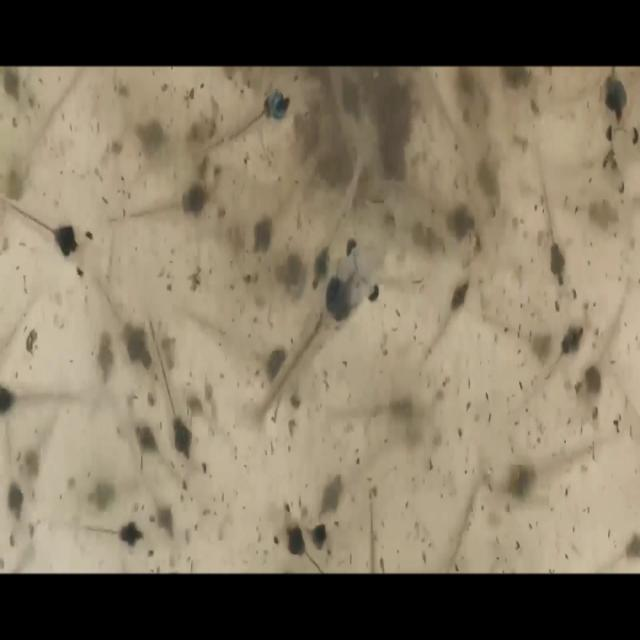shrimp3: (226, 224, 396, 455), (180, 68, 327, 176), (142, 301, 210, 499), (0, 172, 100, 294), (109, 157, 241, 237), (533, 133, 582, 313), (74, 511, 160, 566)
